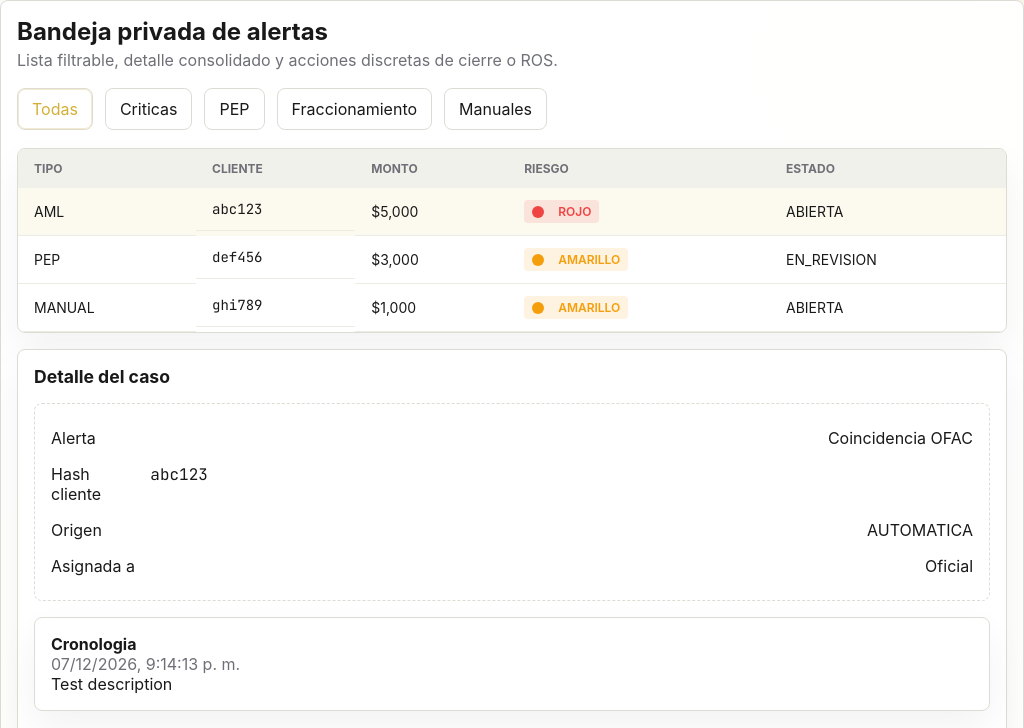
Test: AlertsPage › filters by Manuales
Click the button "Manuales": [496, 109] box [444,88,547,130]
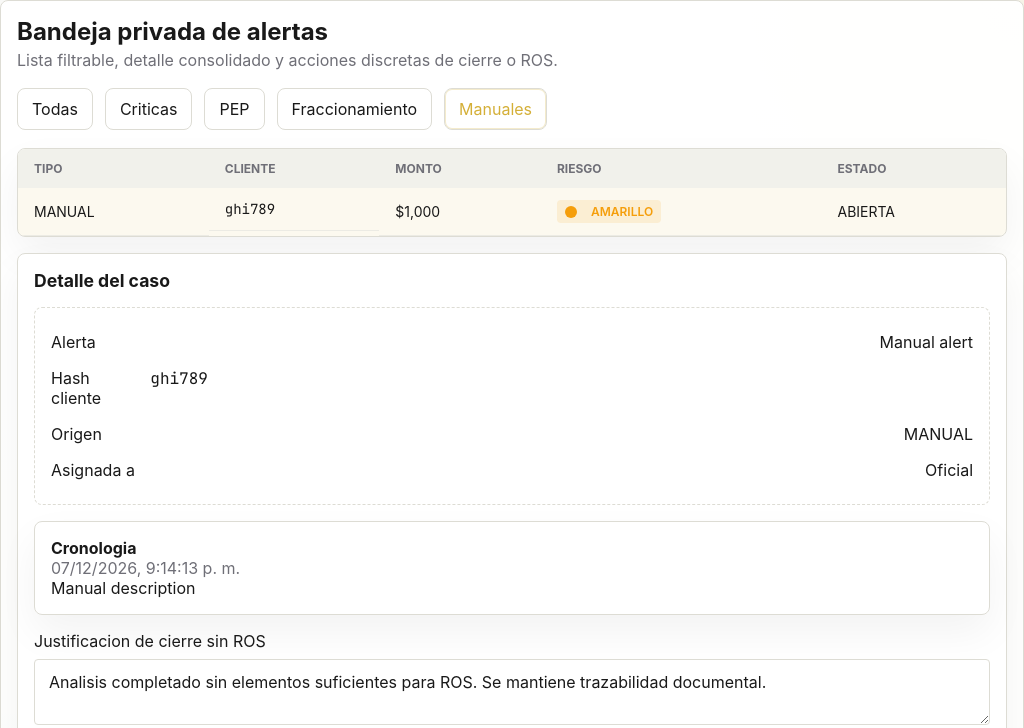
Check: the text "Manual alert" is shown, box [880,332,973,352]
Check: the text "AML" is gone
